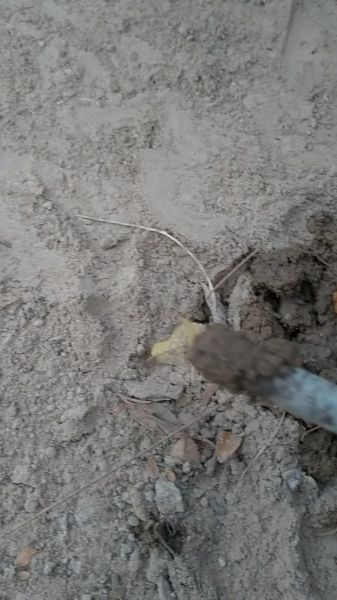eggs: (328, 290, 337, 320)
